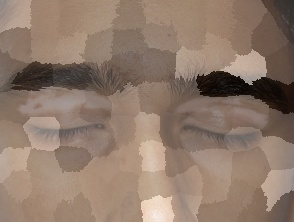vitiligo: (164, 80, 285, 137), (12, 83, 118, 125)
